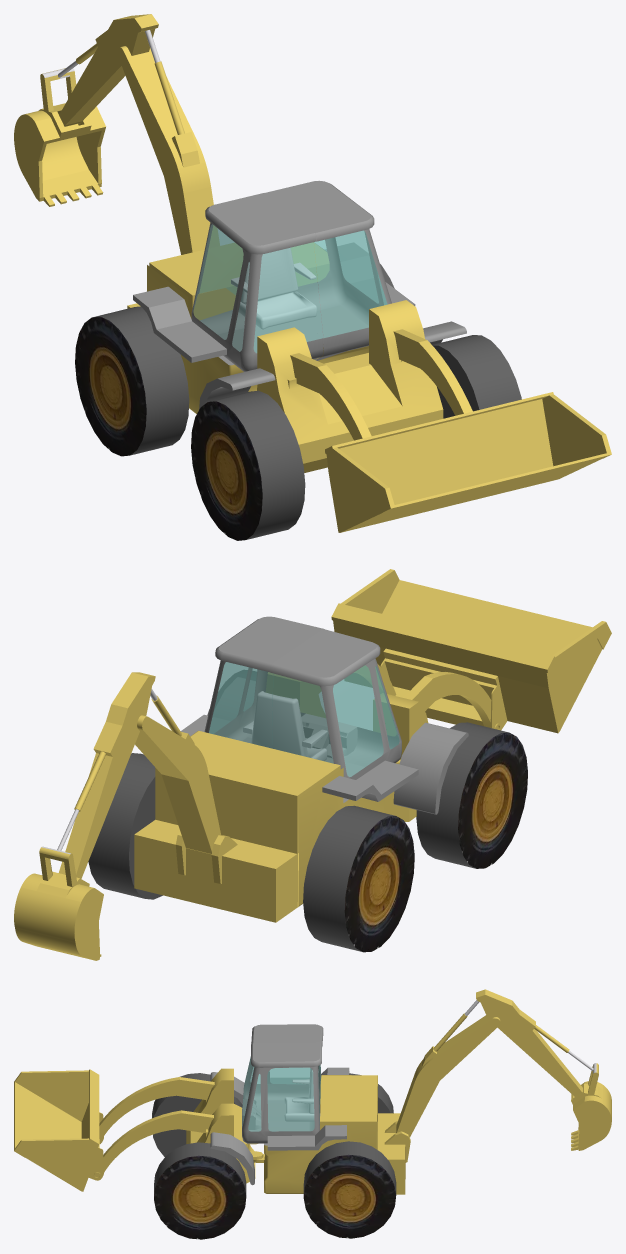
Rendered from digger.glb.
The picture shows the model from 3 angles, top to bottom: view 1: azimuth 30°, elevation 25°; view 2: azimuth 150°, elevation 25°; view 3: azimuth 270°, elevation 25°; orthographic projection. The views are drawn at different scales.
Visible parts, largest first — view 1: Geom3D_11, Geom3D_26, Geom3D_21, Geom3D_28, Geom3D_22, Geom3D_13, Geom3D_16, Geom3D_19, Geom3D_27, Geom3D_25, Geom3D_7, Geom3D_9 (+1 smaller); view 2: Geom3D_11, Geom3D_27, Geom3D_21, Geom3D_26, Geom3D_22, Geom3D_16, Geom3D_28, Geom3D_19, Geom3D_23, Geom3D_13, Geom3D_25, Geom3D_7; view 3: Geom3D_22, Geom3D_11, Geom3D_26, Geom3D_27, Geom3D_16, Geom3D_21, Geom3D_19, Geom3D_28, Geom3D_13, Geom3D_7, Geom3D_9, Geom3D_23 (+1 smaller).
Boxes of the visible parts, box(x1,y1,x2,y2) form: Geom3D_11: box(325, 392, 611, 532); Geom3D_26: box(133, 180, 415, 371); Geom3D_21: box(93, 264, 521, 539); Geom3D_28: box(193, 224, 387, 352); Geom3D_22: box(75, 316, 262, 540); Geom3D_13: box(257, 300, 443, 472); Geom3D_16: box(14, 14, 158, 206); Geom3D_19: box(117, 47, 219, 254); Geom3D_27: box(127, 242, 368, 413); Geom3D_25: box(231, 248, 316, 329); Geom3D_7: box(290, 353, 371, 440); Geom3D_9: box(393, 329, 472, 415); Geom3D_11: box(331, 569, 611, 733); Geom3D_27: box(134, 730, 384, 922); Geom3D_21: box(88, 670, 508, 951); Geom3D_26: box(180, 616, 418, 802); Geom3D_22: box(344, 732, 527, 952); Geom3D_16: box(14, 672, 155, 960); Geom3D_28: box(209, 662, 399, 776); Geom3D_19: box(135, 695, 237, 883); Geom3D_23: box(213, 677, 468, 814); Geom3D_13: box(266, 672, 428, 821); Geom3D_25: box(243, 691, 327, 760); Geom3D_7: box(403, 672, 498, 729); Geom3D_22: box(154, 1154, 396, 1239); Geom3D_11: box(14, 1069, 103, 1191); Geom3D_26: box(242, 1024, 349, 1150); Geom3D_27: box(264, 1075, 405, 1194); Geom3D_16: box(476, 989, 611, 1150); Geom3D_21: box(152, 1073, 396, 1196); Geom3D_19: box(384, 1013, 500, 1162); Geom3D_28: box(242, 1057, 321, 1131); Geom3D_13: box(186, 1068, 264, 1183); Geom3D_7: box(99, 1077, 214, 1142); Geom3D_9: box(94, 1110, 213, 1177); Geom3D_23: box(210, 1072, 254, 1185).
Bounding box in the file's own units: 3.78 × 4.42 × 11.48.
3 materials, 3 textured.
